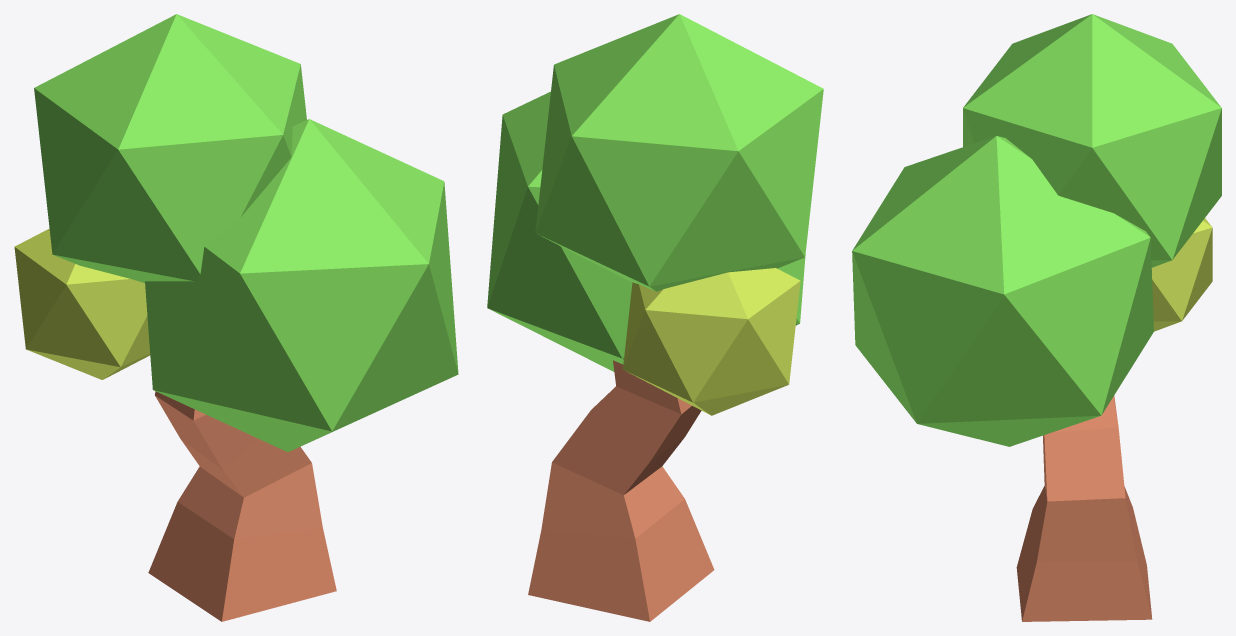
The model's file is Tree 5.fbx.
The picture shows the model from 3 angles, left to right: view 1: azimuth 30°, elevation 25°; view 2: azimuth 150°, elevation 25°; view 3: azimuth 270°, elevation 25°; orthographic projection. The views are drawn at different scales.
Visible parts, largest first — view 1: Tree 5; view 2: Tree 5; view 3: Tree 5.
Part boxes in pixels (<box>): Tree 5: <box>14,14,458,621</box>; Tree 5: <box>487,14,823,621</box>; Tree 5: <box>852,14,1221,621</box>.
Bounding box in the file's own units: 335 × 530 × 322.
